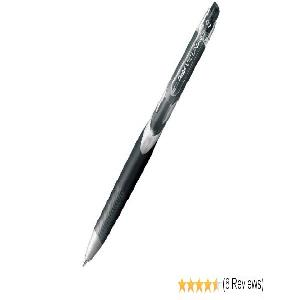pen: (78, 1, 222, 269)
